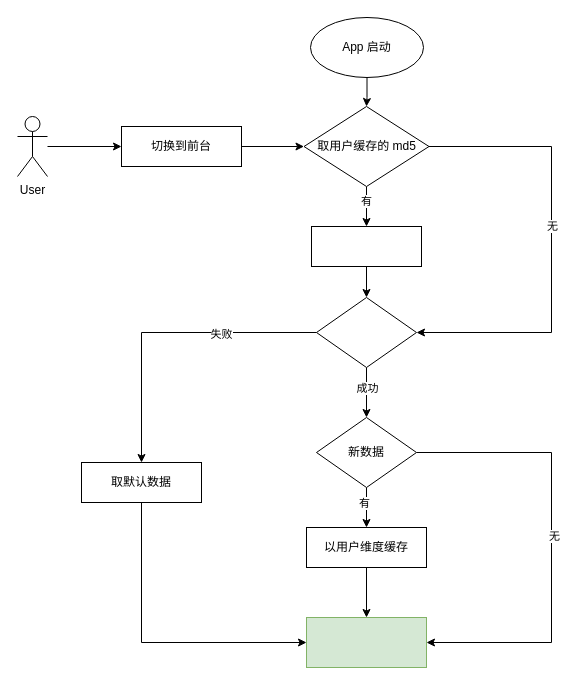
Some shapes in this 577 by 685 pixel diagram are drawn without their labels. The centre of each missing label's shape, as x and y in pixels:
md5: point (366, 246)
构建/更新 MiniAppManager: point (366, 642)
请求配置: point (366, 332)
